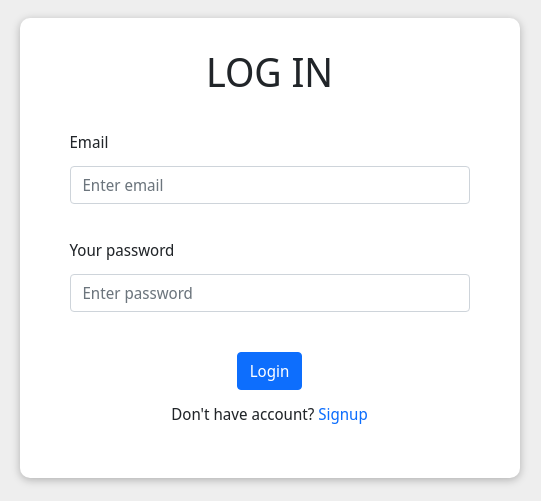
Test case: renders the error message correctly when needed › renders an error message when all fields are empty
Step 1. Click the button with test id "submit_button" → (270, 371), box [237,352,302,390]
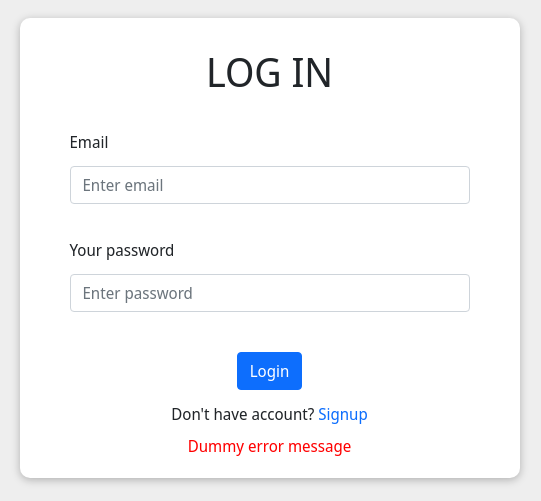
Result: the text with test id "error_message" reads "Dummy error message" at [188,435,351,457]
